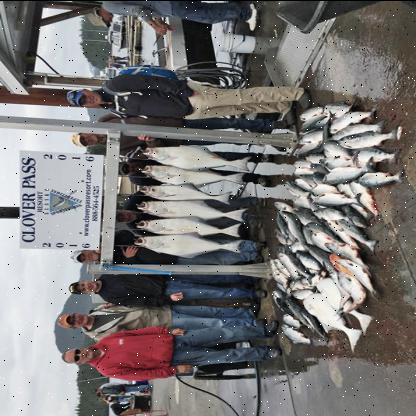fish: (303, 292, 361, 352), (132, 233, 242, 259), (142, 146, 252, 172), (142, 164, 246, 190), (136, 200, 247, 224), (134, 216, 240, 238), (138, 183, 230, 205), (322, 156, 378, 184), (332, 218, 378, 252), (334, 258, 375, 295), (328, 118, 386, 142), (324, 107, 376, 133), (336, 128, 394, 148), (338, 270, 364, 313), (324, 242, 367, 266), (318, 98, 356, 120), (353, 169, 403, 184), (312, 192, 364, 206), (352, 147, 396, 161), (313, 208, 347, 222)
